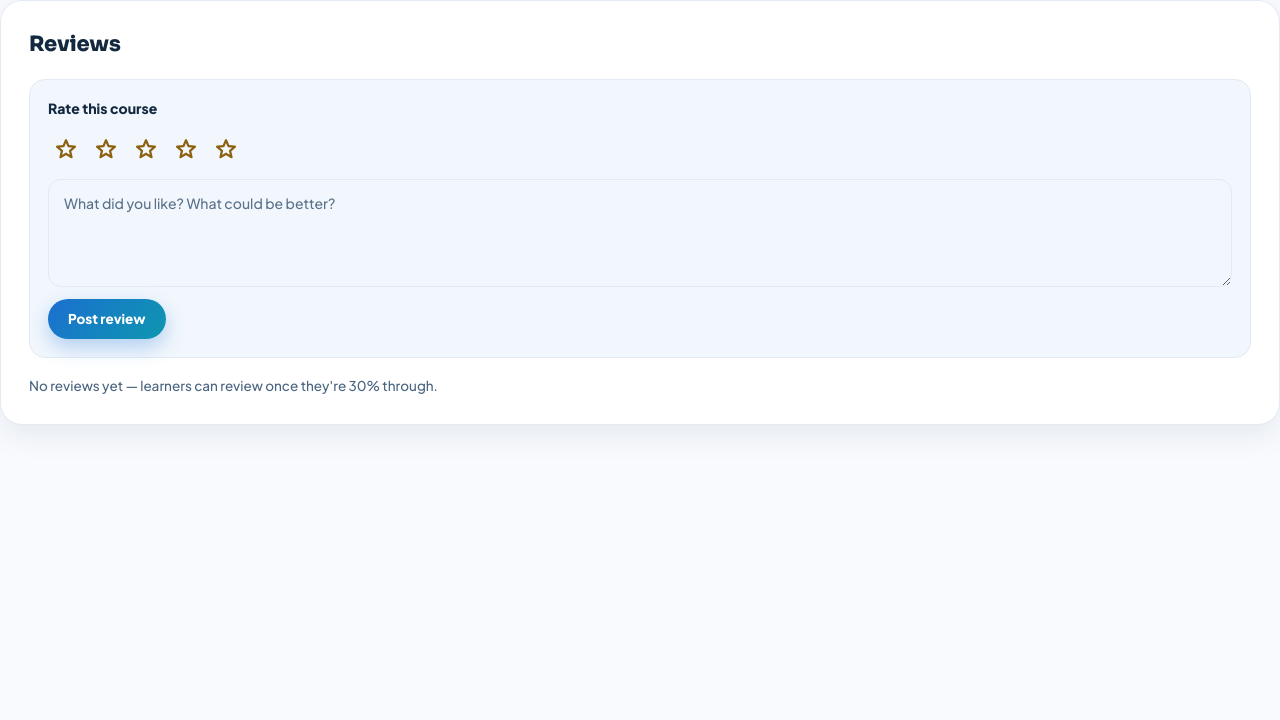
it: <CourseReviews /> (F-006) › a learner rates a course: validation, then the review is posted
Expected: the text "Rate this course" is shown, top-left (48, 98), bottom-right (157, 116)
Click the button "Post review": coordinates (107, 319) top-left (48, 298), bottom-right (166, 339)
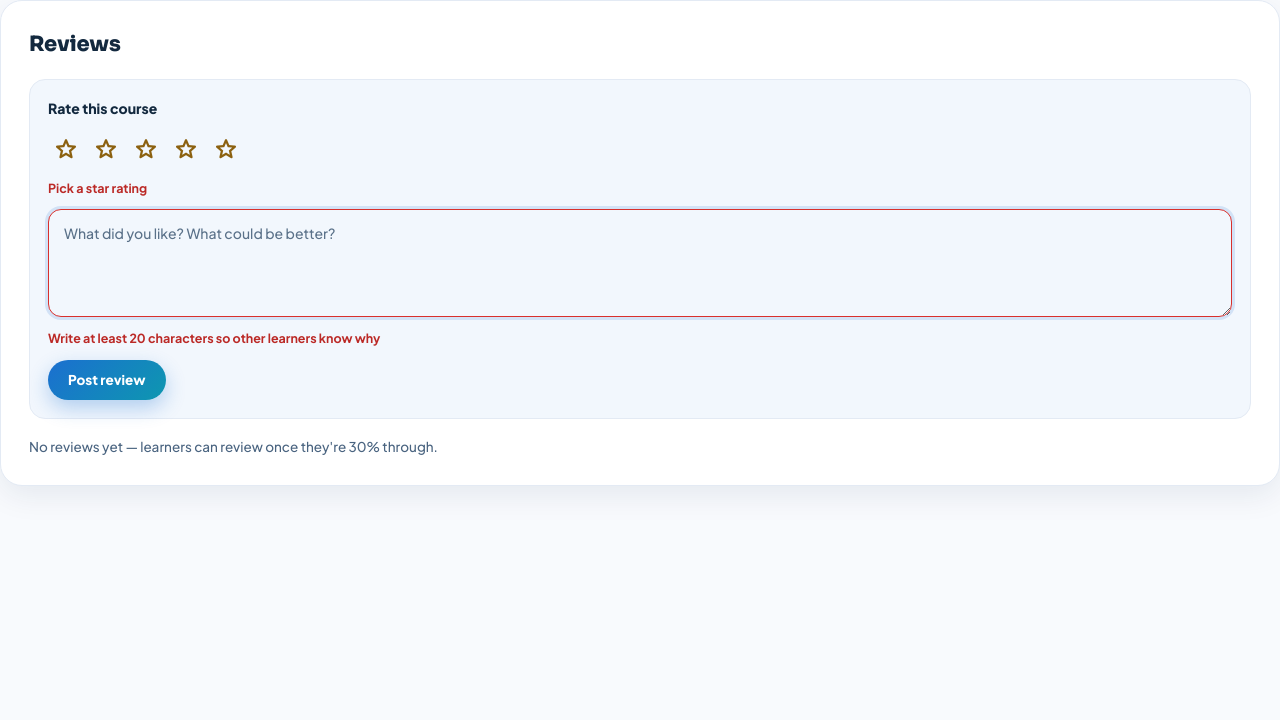
Now the text "Pick a star rating" is shown, box top-left (48, 180), bottom-right (147, 196)
Click the radio button named "4 stars": coordinates (186, 148) top-left (168, 130), bottom-right (204, 166)
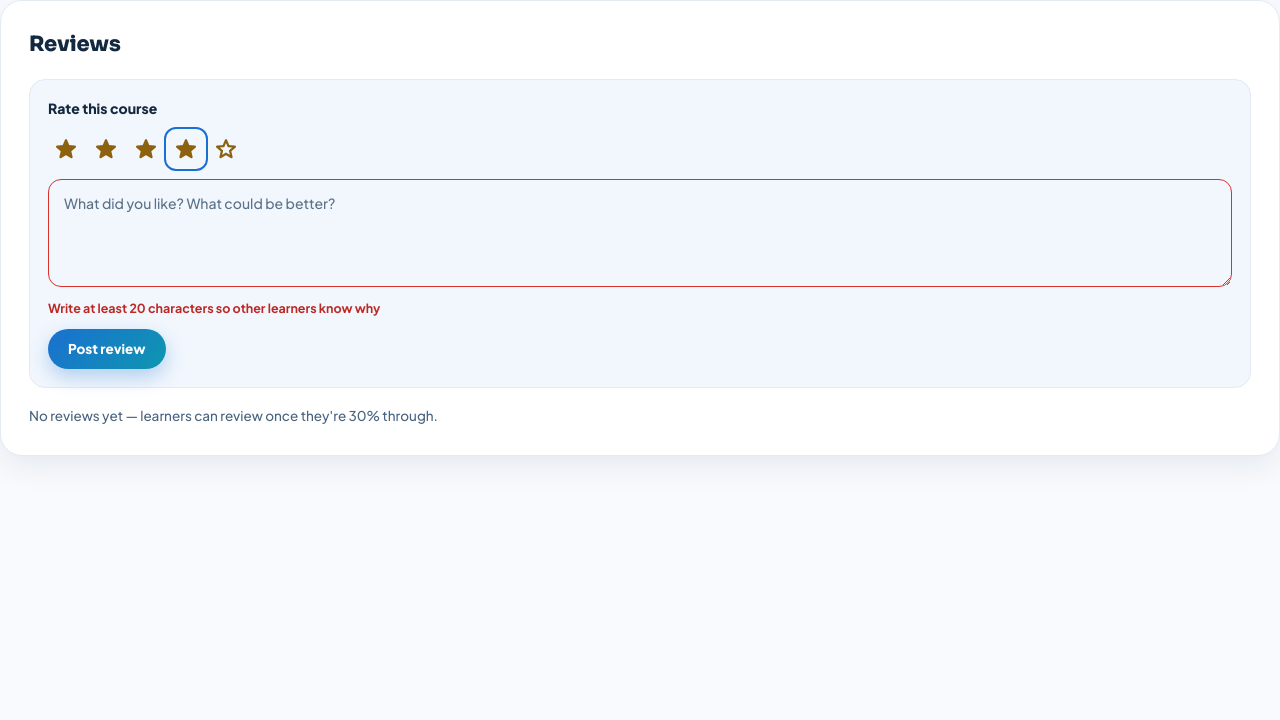
In the text box named "Your review": coordinates (640, 232) top-left (48, 178), bottom-right (1232, 286), type "Pandas finally clicked for me — great real dataset."
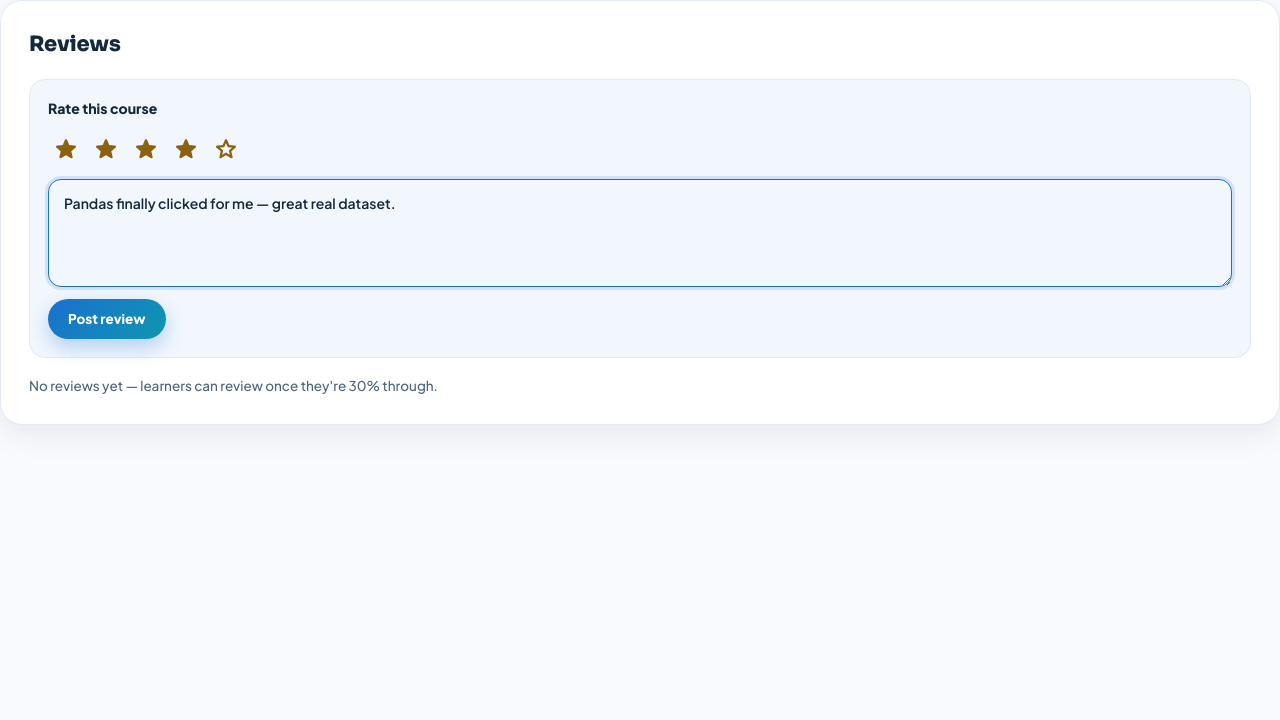
Click the button "Post review": coordinates (107, 319) top-left (48, 298), bottom-right (166, 339)
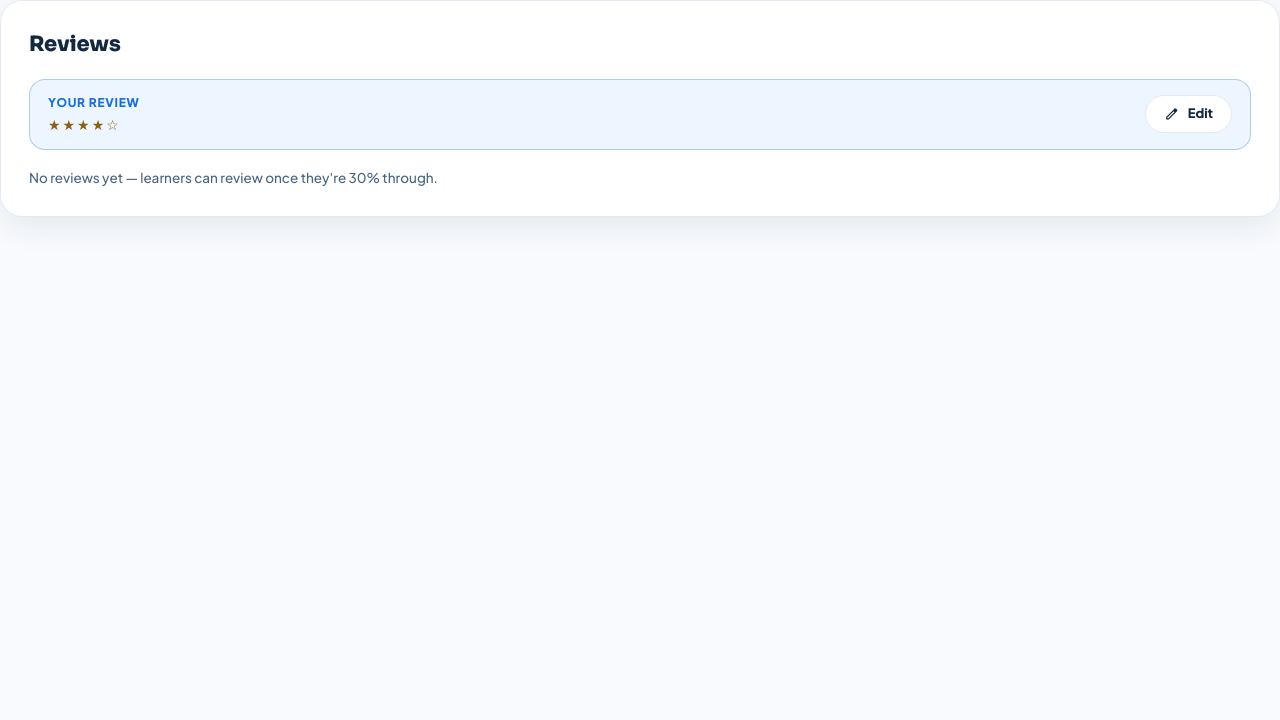
Now the text "YOUR REVIEW" is shown, box top-left (48, 94), bottom-right (140, 112)
